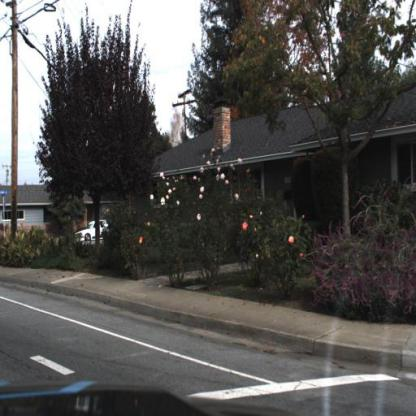car: (72, 217, 119, 246)
